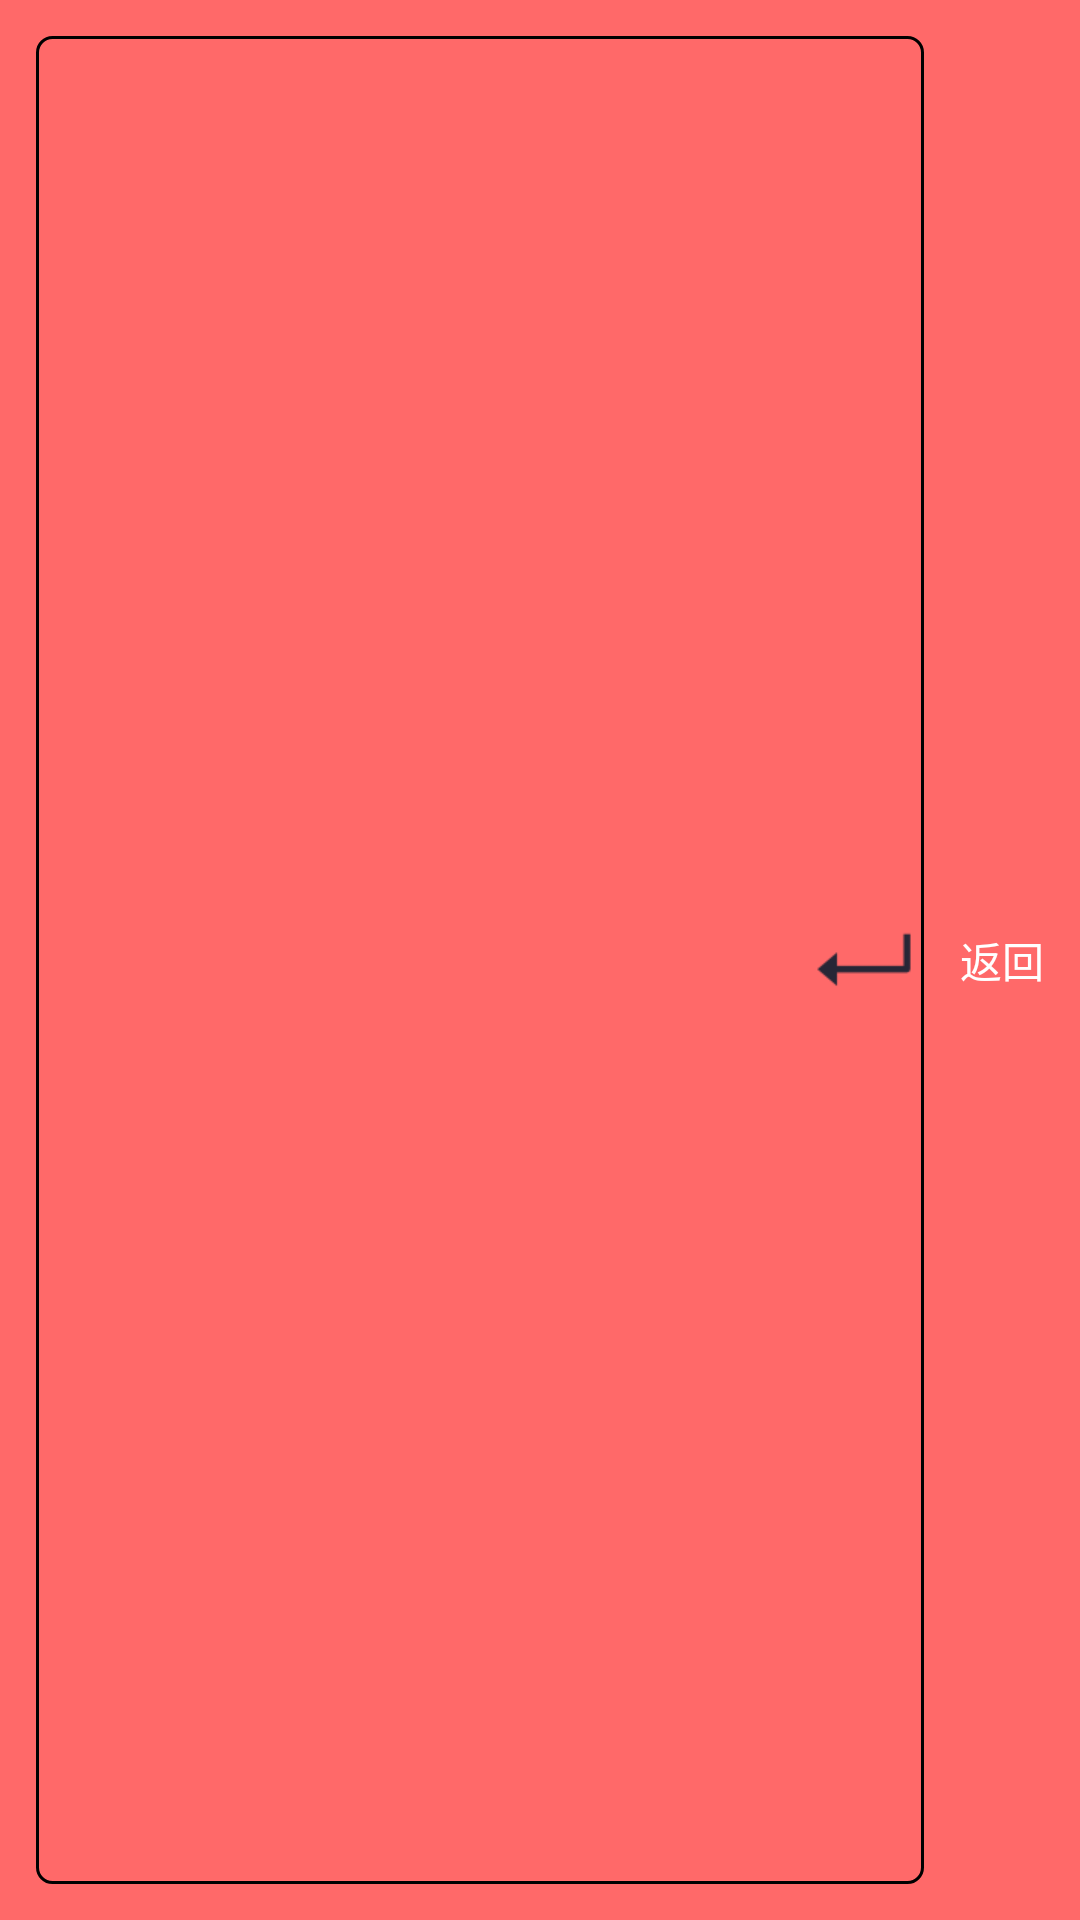

Screen size 1080 x 1920. Icon name, then its center in pixels as (x,y):
huiche: (864,959)
